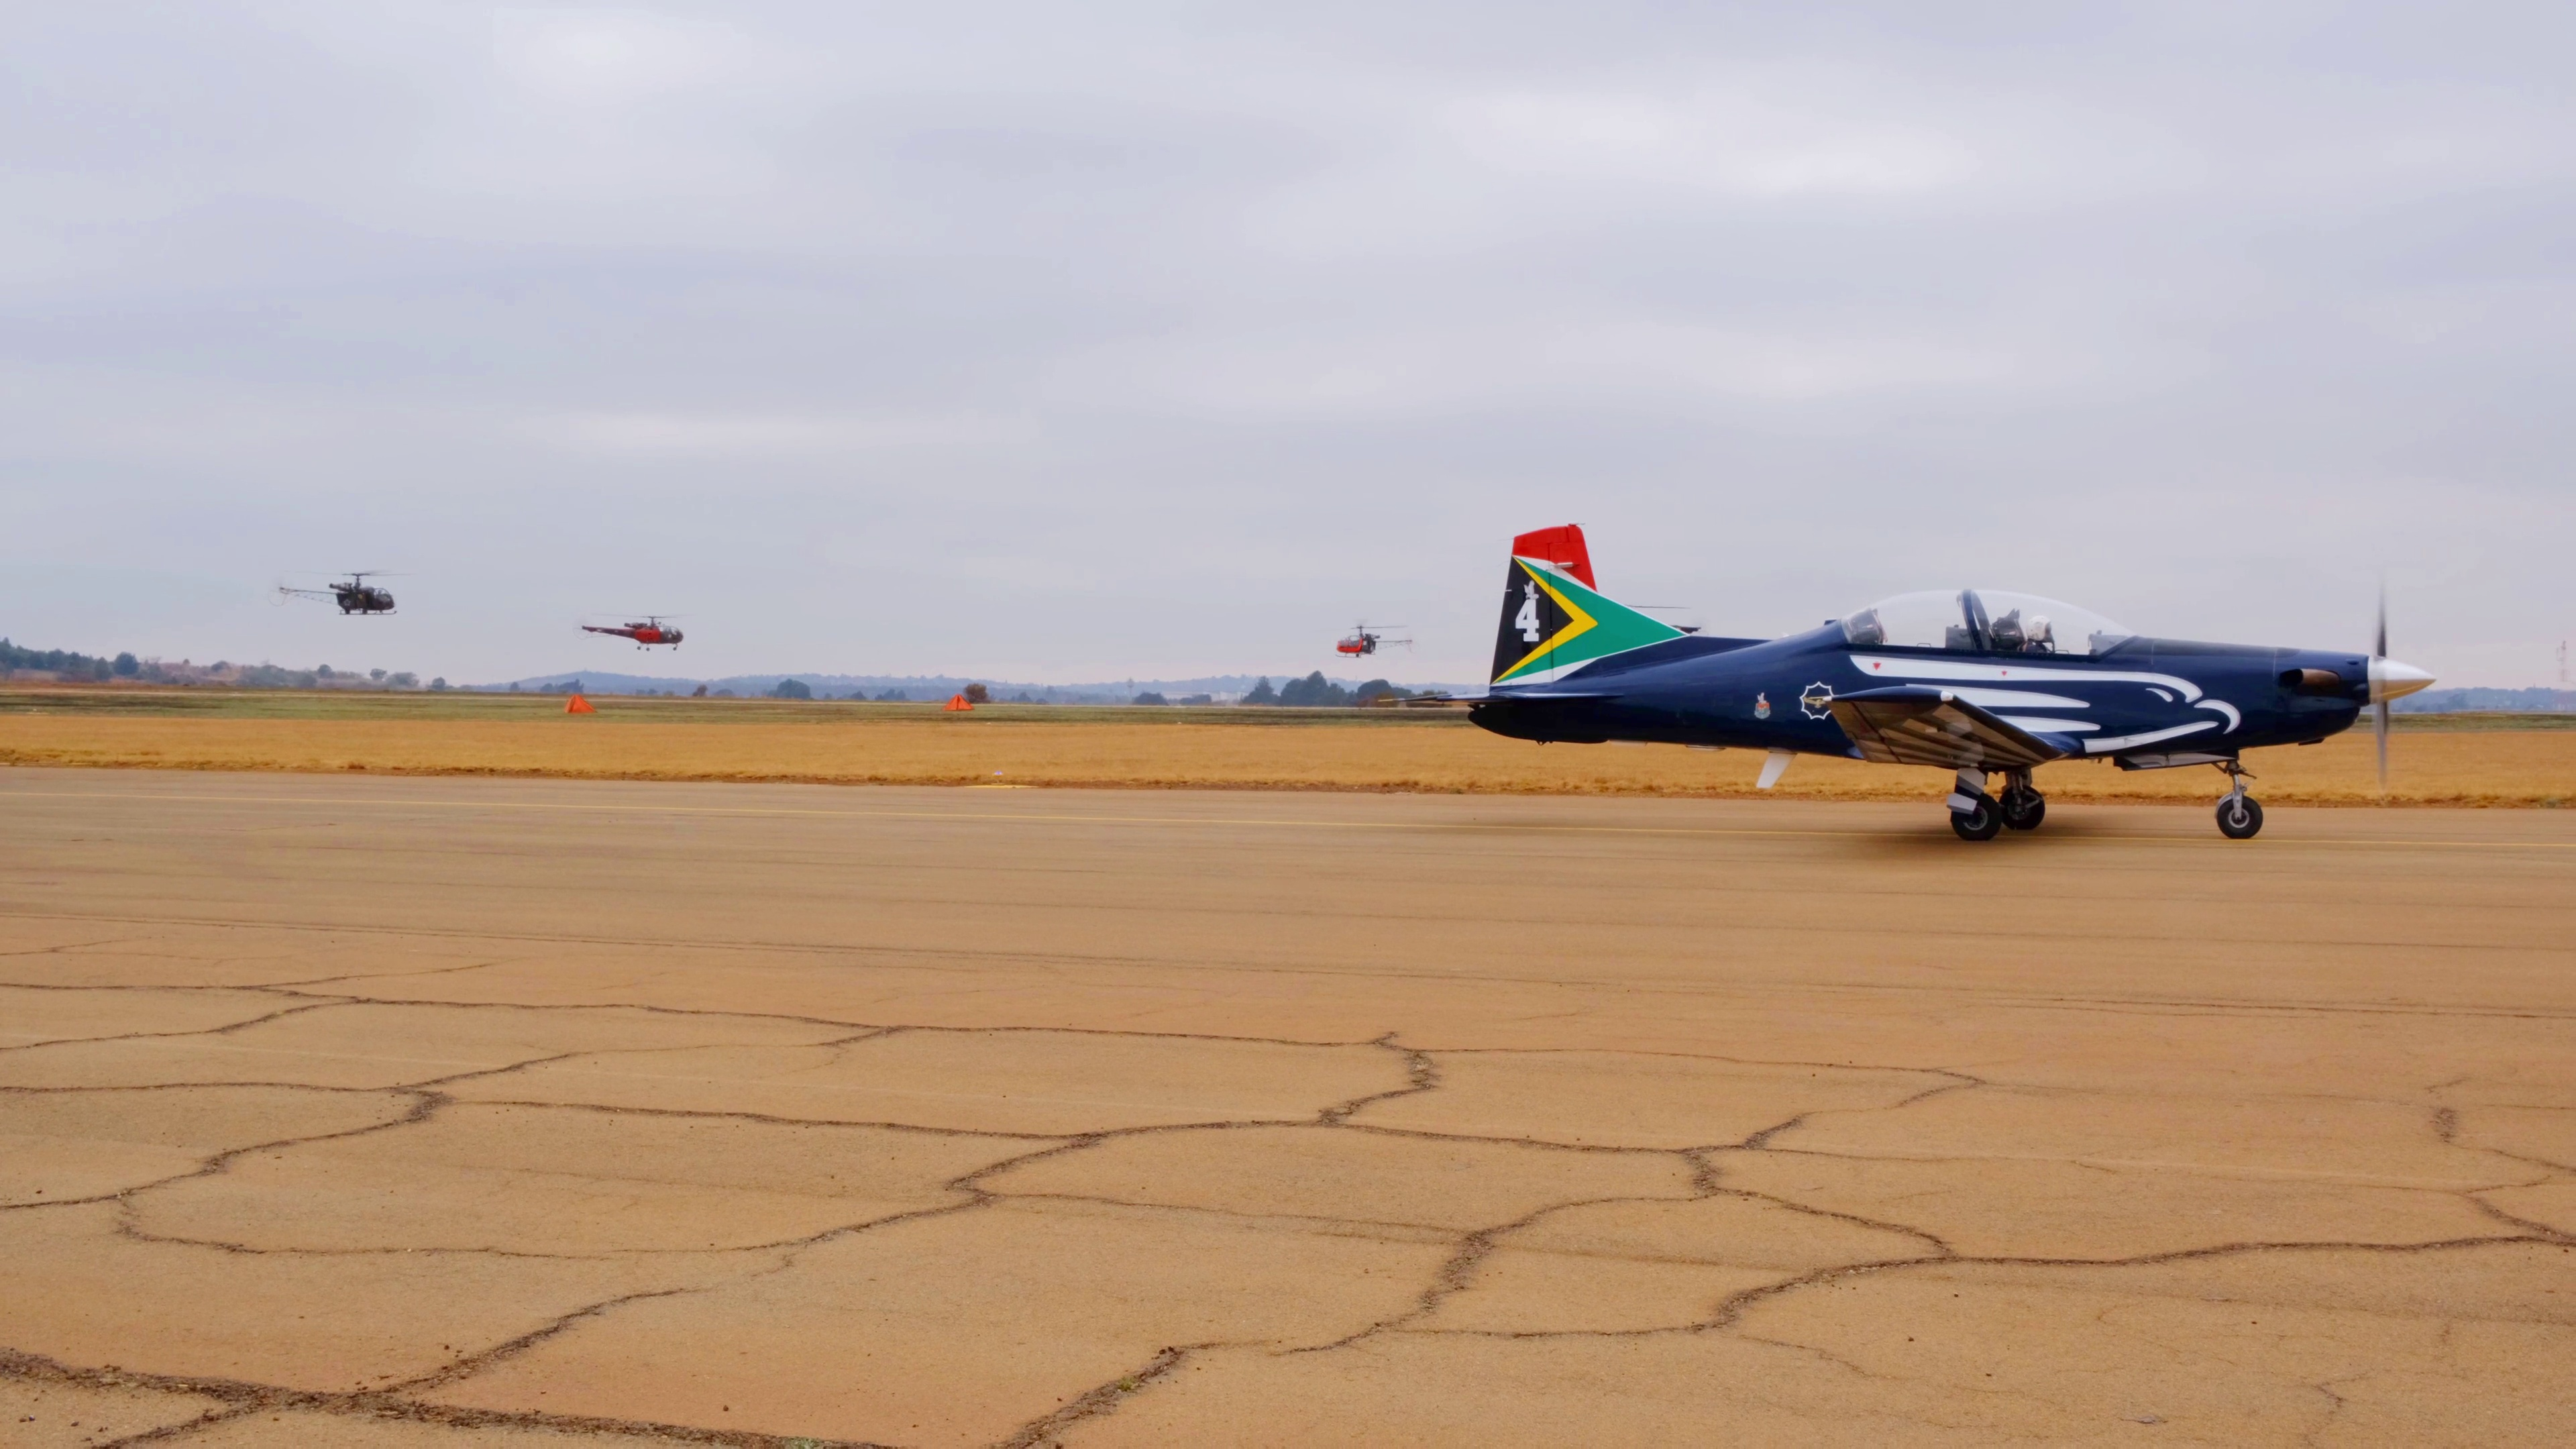heli: (280, 570, 402, 614), (579, 614, 690, 651), (1334, 619, 1415, 658)
plane: (1470, 522, 2436, 839)
